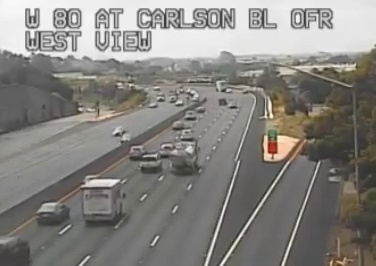car: (36, 202, 70, 224), (140, 154, 161, 170), (128, 145, 146, 158), (160, 143, 174, 157)
small-truck: (82, 179, 124, 222)
tank-truck: (171, 140, 199, 175)
